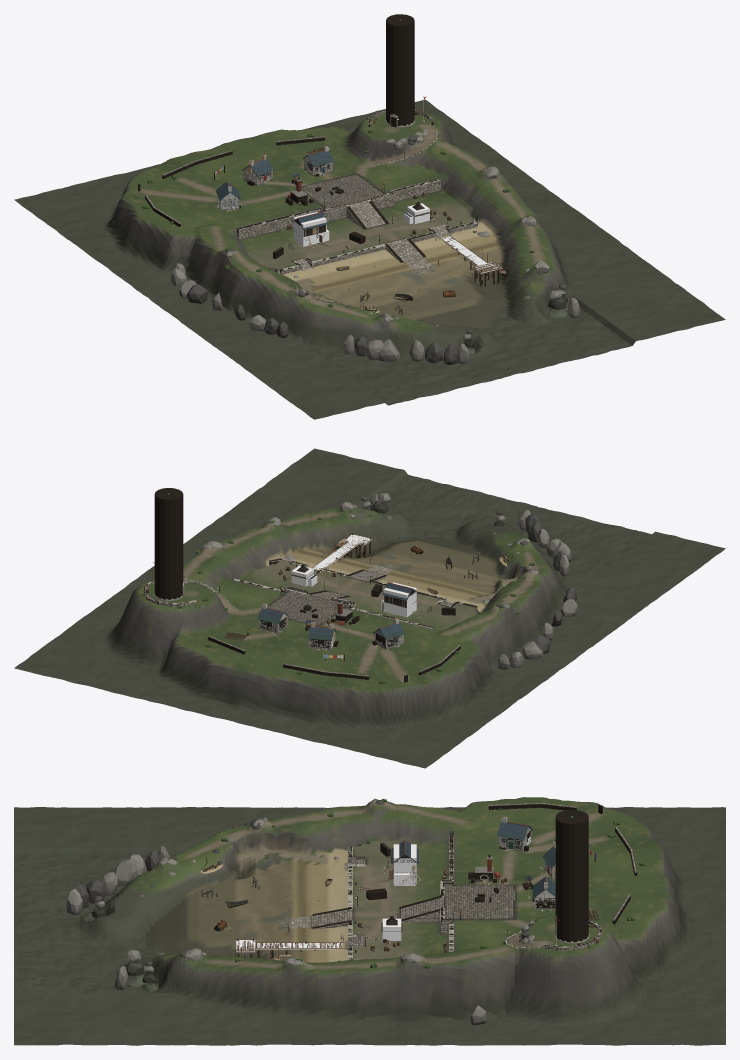
File: home.glb
3 renders of one model, top to bottom at view 1: azimuth 30°, elevation 25°; view 2: azimuth 150°, elevation 25°; view 3: azimuth 270°, elevation 25°, orthographic. The views are drawn at different scales.
Visible parts, largest first — view 1: terrain, COL_lighthouse, walls, setts, COL_walls, slipway, COL_body.012; view 2: terrain, COL_lighthouse, setts, walls, COL_walls, COL_body.012, COL_jetty.001, cottage_1_built, cottage_3_built; view 3: terrain, COL_lighthouse, setts, walls, COL_walls, slipway, COL_body.012, jetty_built, cottage_3_built, COL_jetty.001, net_loft_built, rock_stack_0 (+2 smaller).
Part boxes in pixels (box(x1,y1,x2,y2)): terrain: box(14, 99, 725, 419); COL_lighthouse: box(386, 14, 414, 125); walls: box(236, 179, 478, 274); setts: box(295, 174, 449, 270); COL_walls: box(237, 179, 478, 274); slipway: box(387, 239, 437, 275); COL_body.012: box(293, 212, 329, 246); terrain: box(14, 448, 725, 768); COL_lighthouse: box(154, 488, 183, 599); setts: box(268, 570, 452, 625); walls: box(230, 558, 476, 628); COL_walls: box(230, 558, 477, 628); COL_body.012: box(381, 582, 416, 617); COL_jetty.001: box(313, 534, 372, 569); cottage_1_built: box(257, 602, 288, 633); cottage_3_built: box(373, 618, 405, 649); terrain: box(14, 797, 725, 1045); COL_lighthouse: box(555, 810, 588, 942); setts: box(345, 859, 514, 948); walls: box(313, 835, 453, 959); COL_walls: box(312, 834, 453, 959); slipway: box(278, 909, 352, 930); COL_body.012: box(393, 844, 416, 885); jetty_built: box(235, 939, 345, 959); cottage_3_built: box(497, 816, 532, 851); COL_jetty.001: box(236, 940, 342, 952); net_loft_built: box(387, 840, 418, 885); rock_stack_0: box(126, 949, 146, 987).
Size of the model in its own units: 128 by 52.82 by 162.
